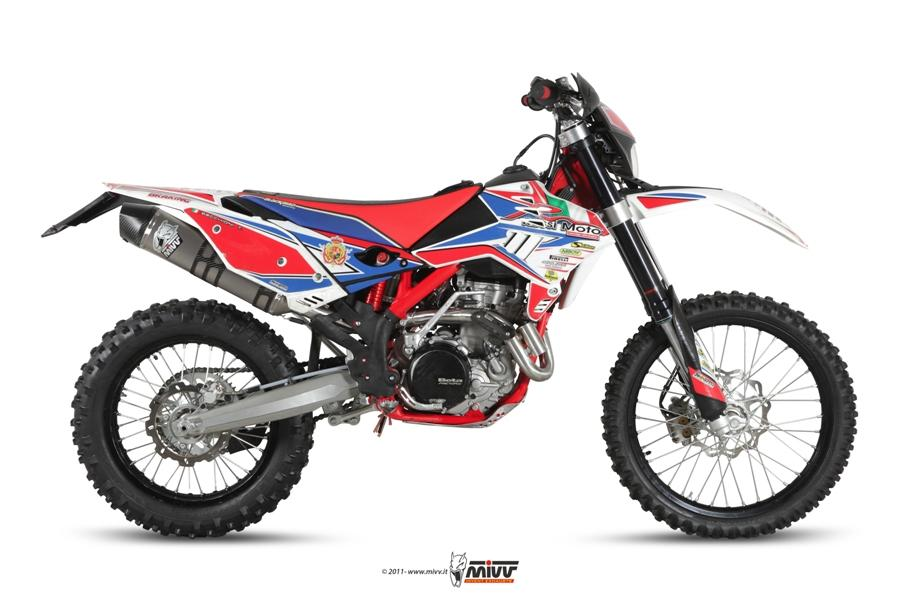engine-chasis: (327, 263, 559, 437)
exhaust: (118, 202, 337, 325), (436, 307, 555, 382), (393, 309, 440, 330)
frontside: (407, 101, 809, 436)
handlebar: (513, 71, 600, 183)
motorbike: (42, 74, 857, 538)
rearside: (40, 181, 429, 437)
seat: (237, 179, 483, 250)
tank: (484, 164, 541, 188)
watermark: (381, 550, 521, 589)
wheel: (600, 289, 859, 540), (69, 297, 316, 540), (221, 364, 349, 396), (157, 366, 253, 395), (659, 363, 681, 419), (319, 355, 347, 364), (313, 413, 329, 424)
